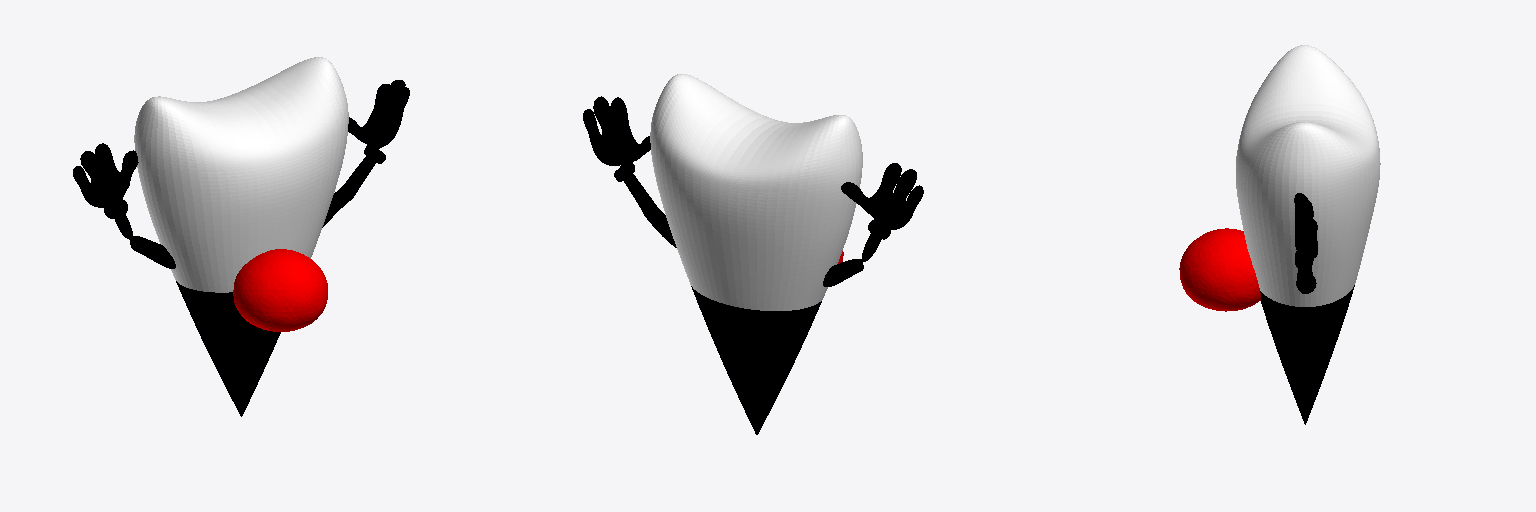
Rendered from java-duke0.obj.
3 renders of one model, left to right at view 1: azimuth 30°, elevation 25°; view 2: azimuth 150°, elevation 25°; view 3: azimuth 270°, elevation 25°, orthographic.
Parts seen in each view (by area): view 1: javadude, javadude_hands, javadude_nase; view 2: javadude, javadude_hands; view 3: javadude, javadude_nase, javadude_hands.
Part boxes in pixels (x1,y1,x2,y2): javadude: (134,57,348,416); javadude_hands: (73,80,409,268); javadude_nase: (233,249,327,331); javadude: (650,74,862,434); javadude_hands: (583,96,923,286); javadude: (1236,45,1380,424); javadude_nase: (1179,228,1260,311); javadude_hands: (1294,193,1317,293).
Size of the model in its own units: 4.11 by 3.95 by 2.12.